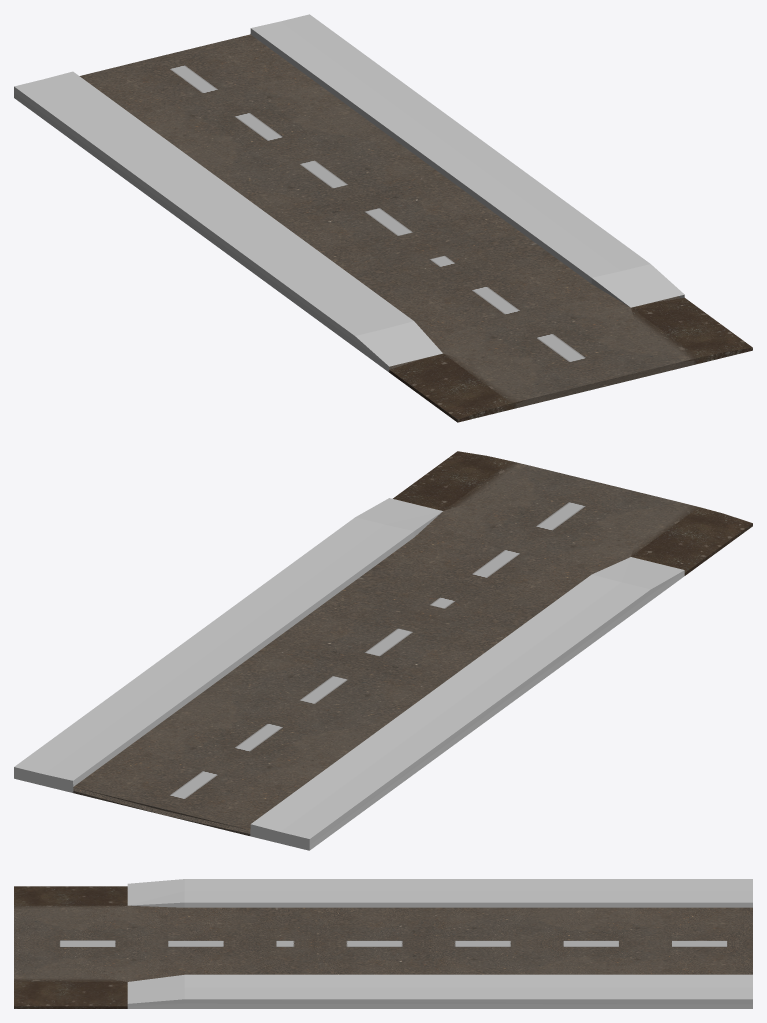
The model's file is Straight_Transition.obj.
3 views of the same model, one above another, from view 1: azimuth 30°, elevation 25°; view 2: azimuth 150°, elevation 25°; view 3: azimuth 270°, elevation 25° (orthographic). The views are drawn at different scales.
Visible parts, largest first — view 1: Straight_Transition; view 2: Straight_Transition; view 3: Straight_Transition.
Part boxes in pixels (bbox=[...]): Straight_Transition: bbox=[14, 14, 752, 422]; Straight_Transition: bbox=[14, 451, 752, 850]; Straight_Transition: bbox=[14, 879, 752, 1008].
Size of the model in its own units: 10.01 by 0.396 by 26.
